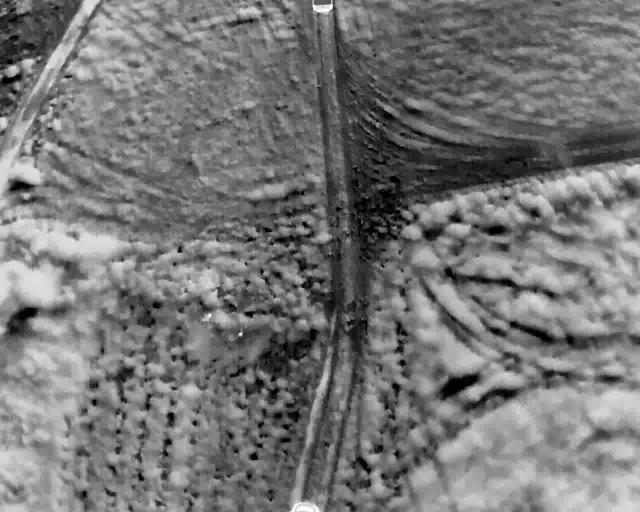car: (311, 0, 333, 13), (289, 502, 319, 511)
